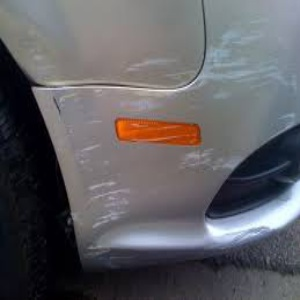bumper_scratch: (65, 141, 210, 266)
